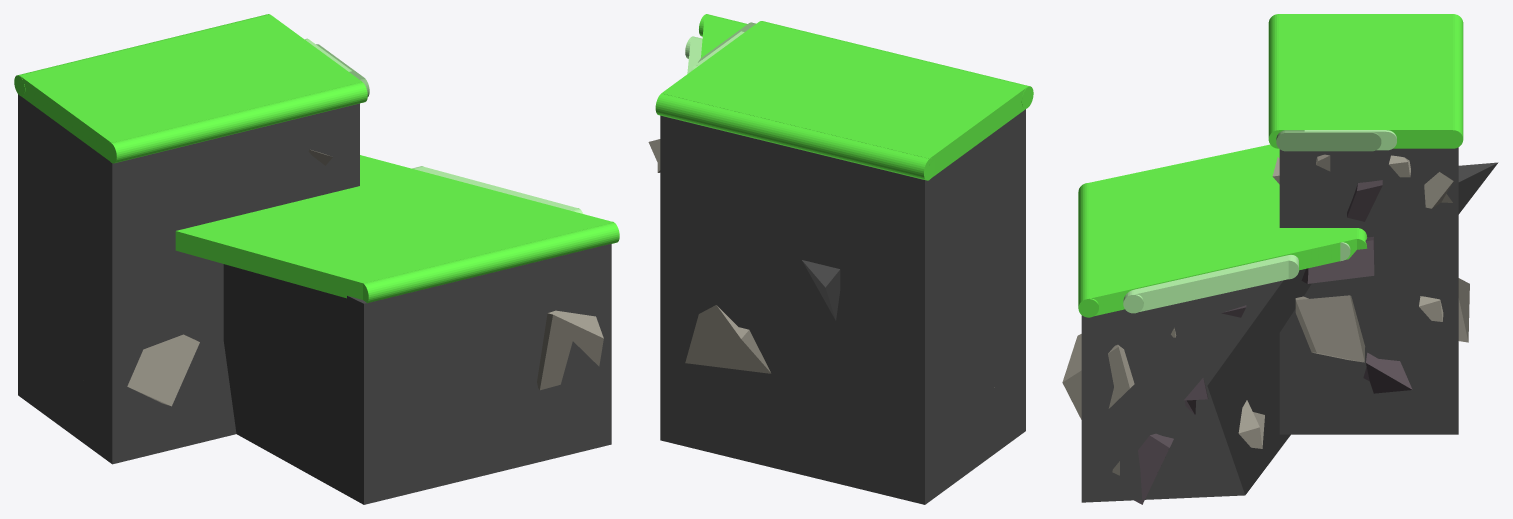
Rendered from 2.5D地形背景01 1.fbx.
3 views of the same model, side by side, from view 1: azimuth 30°, elevation 25°; view 2: azimuth 150°, elevation 25°; view 3: azimuth 270°, elevation 25° (orthographic). The views are drawn at different scales.
Parts seen in each view (by area): view 1: Cube.001, Cube, 円柱.002, 円柱.001, 立方体.016, 立方体.014, 立方体.023; view 2: Cube, 円柱.001, 立方体.015, Cube.001, 円柱.002, 立方体.023; view 3: Cube, Cube.001, 円柱.002, 円柱.001, 立方体.023, 立方体.009, 円柱.005, 立方体.016, 立方体.007, 立方体.010, 立方体.020, 立方体.005 (+4 smaller).
Part boxes in pixels (box(x1,y1,x2,y2)): Cube.001: box(223, 243, 611, 504); Cube: box(18, 94, 359, 464); 円柱.002: box(175, 155, 619, 303); 円柱.001: box(14, 14, 367, 163); 立方体.016: box(537, 310, 603, 390); 立方体.014: box(83, 334, 199, 406); 立方体.023: box(412, 166, 583, 213); Cube: box(660, 109, 1025, 504); 円柱.001: box(655, 21, 1033, 180); 立方体.015: box(685, 305, 771, 373); Cube.001: box(802, 260, 840, 320); 円柱.002: box(699, 14, 747, 57); 立方体.023: box(685, 36, 702, 73); Cube: box(1279, 147, 1458, 434); Cube.001: box(1081, 162, 1498, 502); 円柱.002: box(1078, 144, 1367, 317); 円柱.001: box(1268, 14, 1463, 148); 立方体.023: box(1123, 255, 1298, 313); 立方体.009: box(1295, 295, 1365, 362); 円柱.005: box(1276, 130, 1381, 151); 立方体.016: box(1062, 334, 1134, 419); 立方体.007: box(1301, 236, 1374, 283); 立方体.010: box(1363, 352, 1412, 393); 立方体.020: box(1134, 433, 1173, 504); 立方体.005: box(1347, 180, 1382, 221).
Size of the model in its own units: 1718 by 1484 by 1699.
